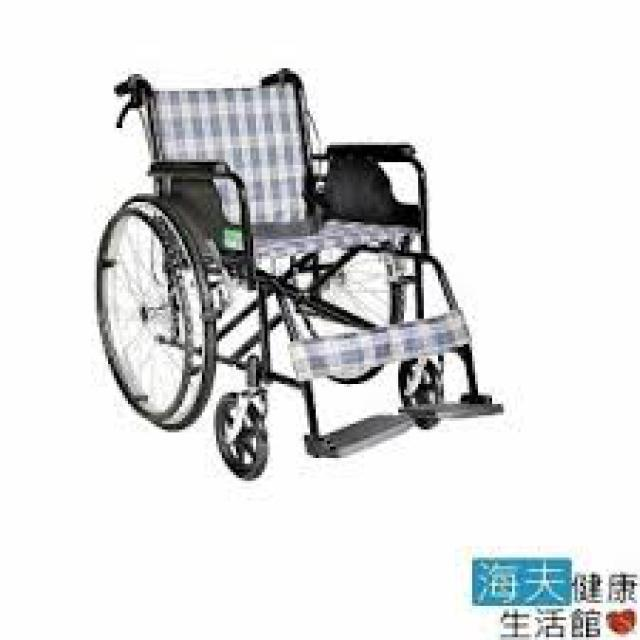wheelchairs: (94, 68, 503, 488)
